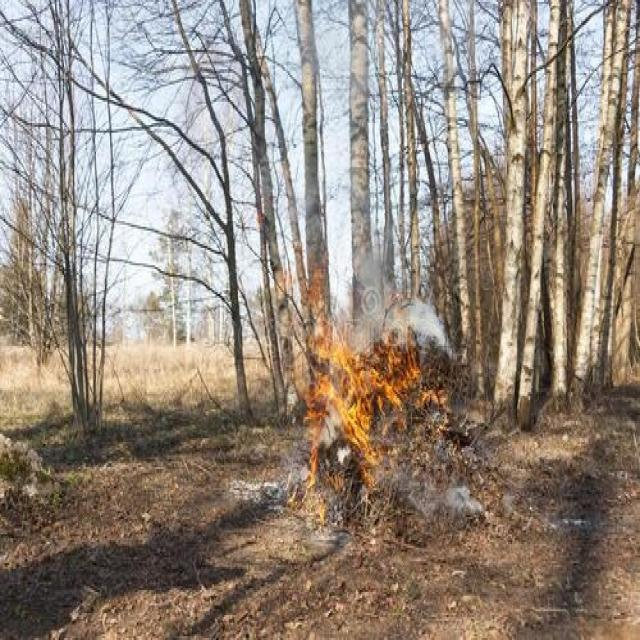Fire: (296, 280, 424, 526)
Smoke: (346, 256, 462, 356)
